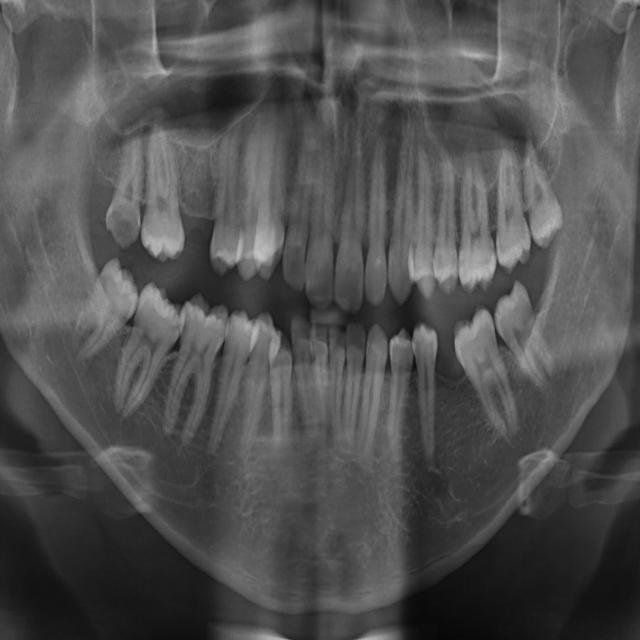3M ESPE Implant: (103, 126, 147, 251)
AGS Medikal Implant: (512, 433, 512, 434)
Amalgam filling: (157, 133, 167, 178)
Anthogyr Implant: (411, 317, 449, 468)
Bicon Implant: (386, 327, 415, 466)
BioHorizons Implant: (353, 322, 391, 480)
BioLife Implant: (344, 320, 366, 449)
Biomet 3i Implant: (328, 322, 349, 437)
Blue Sky Bio Implant: (312, 322, 332, 430)
Camlog Implant: (288, 311, 323, 440)
Caries: (364, 134, 389, 307)
Composite filling: (267, 331, 293, 460)
Cowellmedi Implant: (229, 308, 287, 462)
Crown: (201, 307, 262, 468)
Dentatus Implant: (158, 289, 232, 449)
Dentis Implant: (122, 414, 122, 415)
Dentium Implant: (55, 253, 153, 379)
Euroteknika Implant: (209, 110, 244, 277)
Filling: (232, 100, 268, 281)
Frontier Implant: (251, 91, 298, 282)
Hiossen Implant: (387, 113, 417, 306)
Implant: (304, 115, 338, 310)
Implant Direct: (278, 106, 320, 294)
Keystone Dental Implant: (334, 128, 367, 317)
MIS Implant: (413, 140, 436, 302)
Mandible: (429, 144, 459, 295)
Maxilla: (471, 171, 476, 208)
Megagen Implant: (494, 145, 534, 274)
Neodent Implant: (519, 132, 567, 250)
Neoss Implant: (482, 277, 565, 405)
